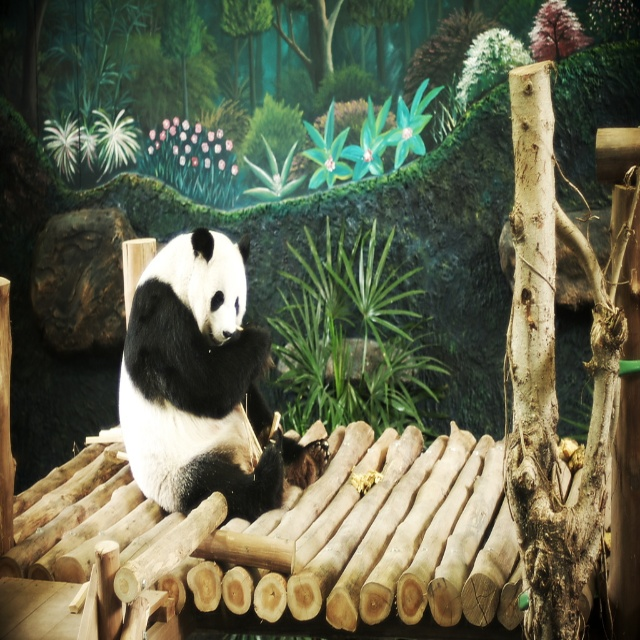Panda: (116, 228, 328, 522)
